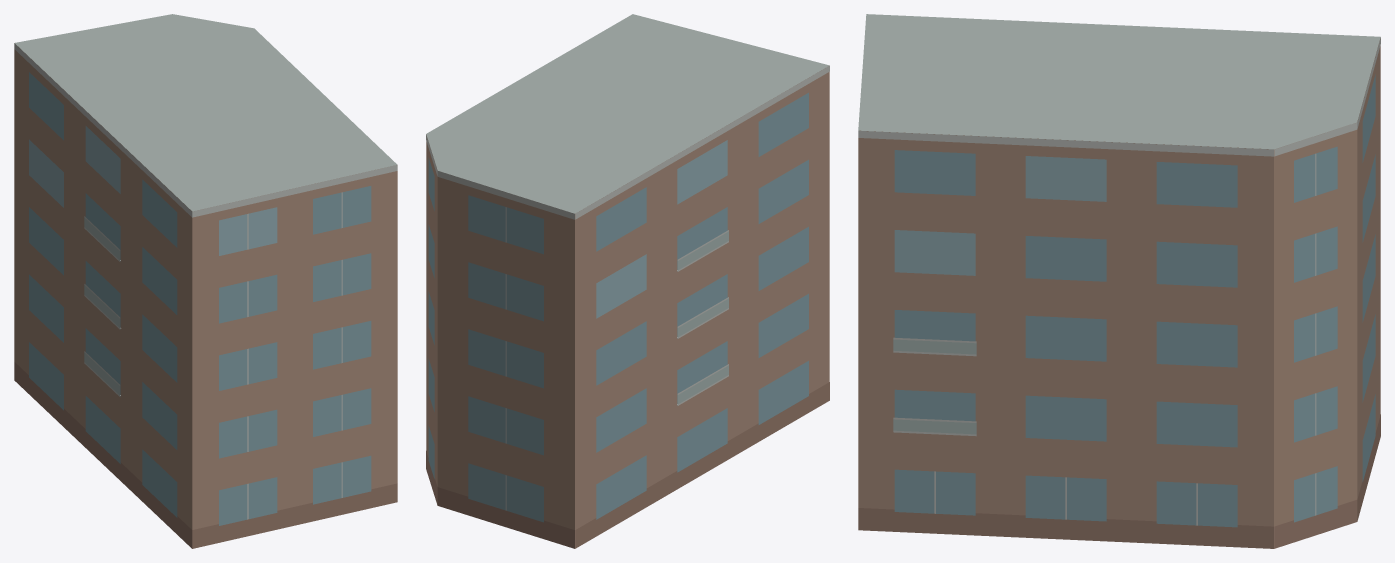
File: survey-upis-32980784.glb
3 views of the same model, side by side, from view 1: azimuth 30°, elevation 25°; view 2: azimuth 150°, elevation 25°; view 3: azimuth 270°, elevation 25° (orthographic). The views are drawn at different scales.
Visible parts, largest first — view 1: survey-upis-32980784.tmp; view 2: survey-upis-32980784.tmp; view 3: survey-upis-32980784.tmp.
Boxes of the visible parts, x1,y1,x2,y2 form: survey-upis-32980784.tmp: (14,14,397,548); survey-upis-32980784.tmp: (426,14,829,548); survey-upis-32980784.tmp: (858,14,1380,548).
Bounding box in the file's own units: 9.78 × 13.45 × 15.96.
